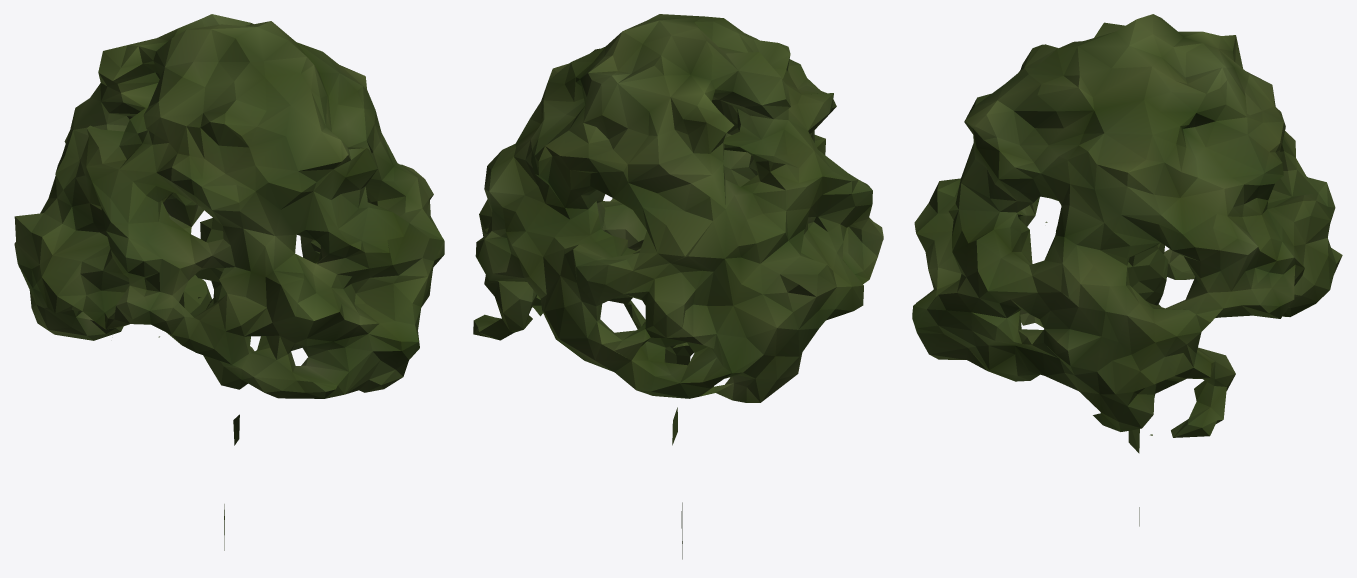
File: tree.glb
3 views of the same model, side by side, from view 1: azimuth 30°, elevation 25°; view 2: azimuth 150°, elevation 25°; view 3: azimuth 270°, elevation 25° (orthographic).
Visible parts, largest first — view 1: tree; view 2: tree; view 3: tree.
Part boxes in pixels (<box>): tree: <box>14,14,444,550</box>; tree: <box>473,14,883,559</box>; tree: <box>912,14,1342,526</box>.
Bounding box in the file's own units: 4.33 × 6 × 4.35.
